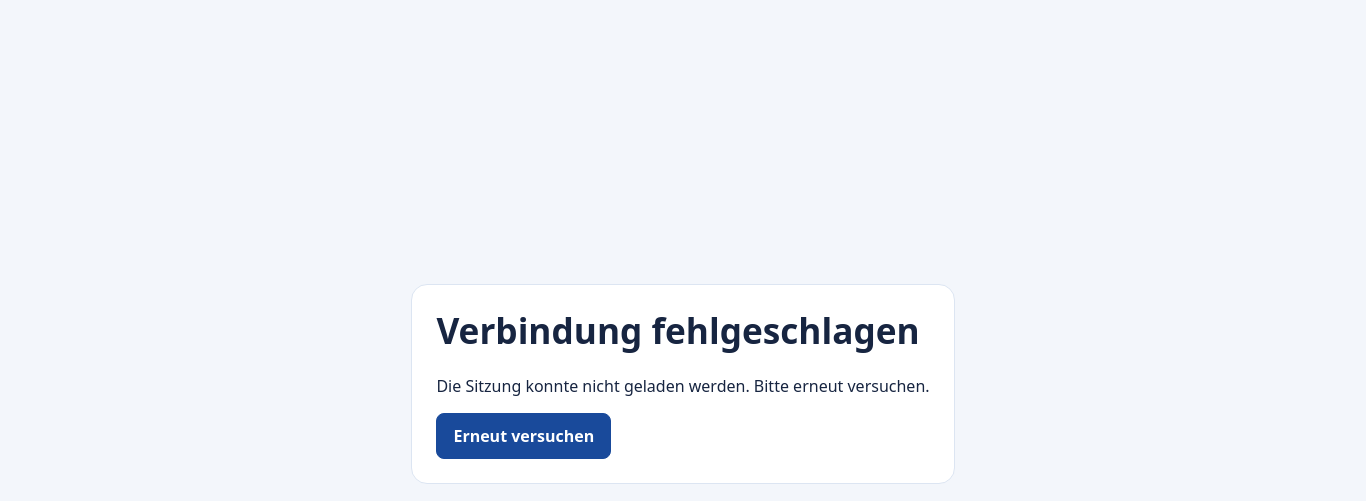
application shell › shows a retryable session error rather than treating a server failure as a logout
Expected: the message shows "Sitzung", [436,375,930,397]
What coordinates should you click on to do the following:
click the button "Erneut versuchen"
I would click on:
 (524, 436)
Its box is [436,413,611,459].
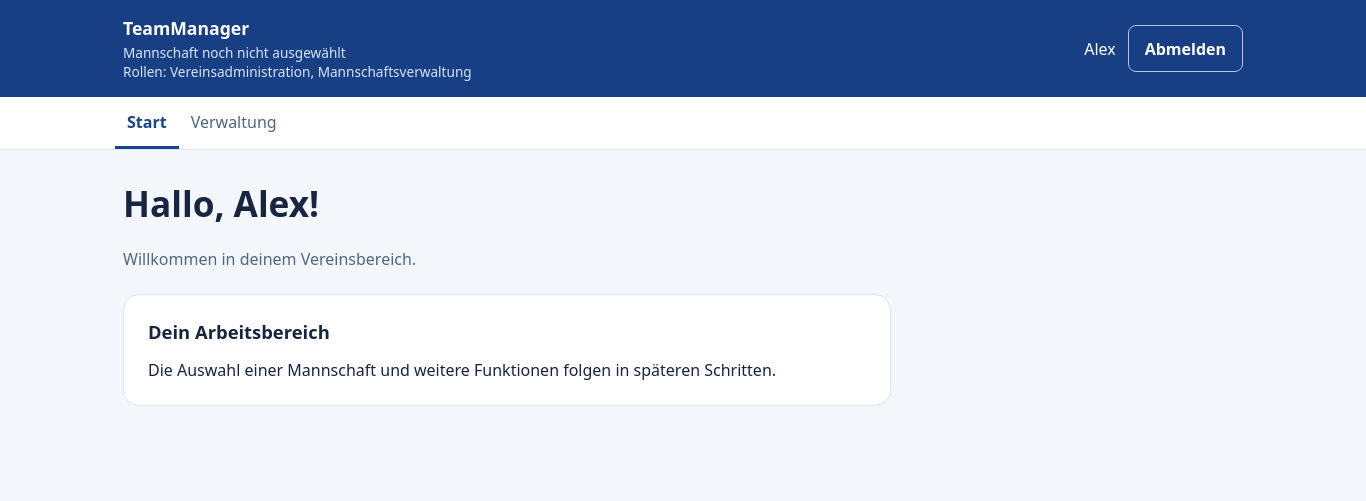
Expected: the heading "Hallo, Alex!" is shown, [123,179,319,227]
